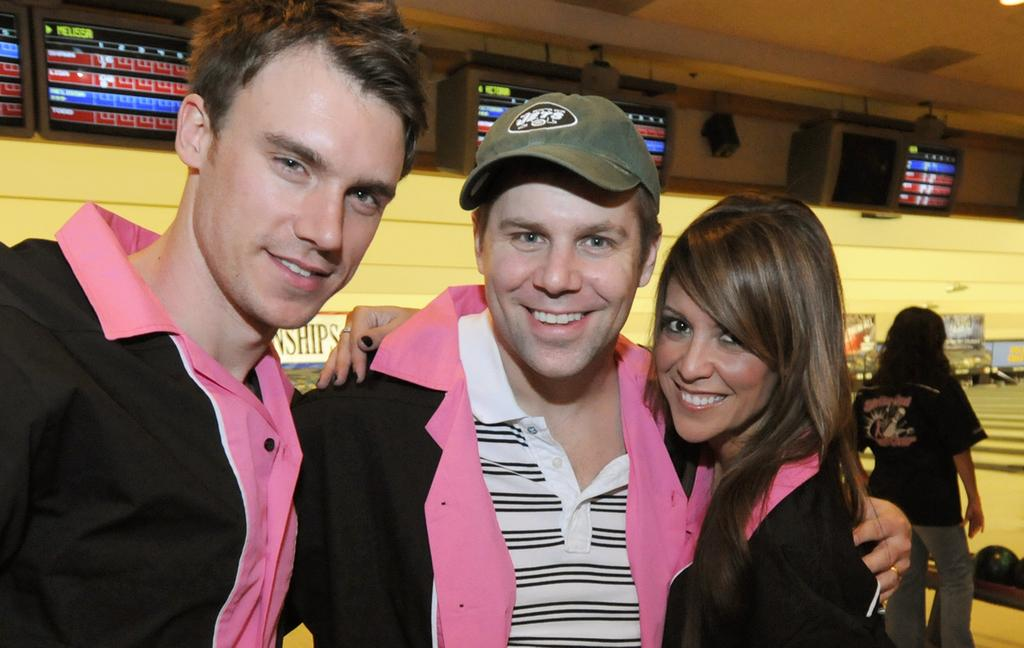Hat: (461, 90, 662, 219)
